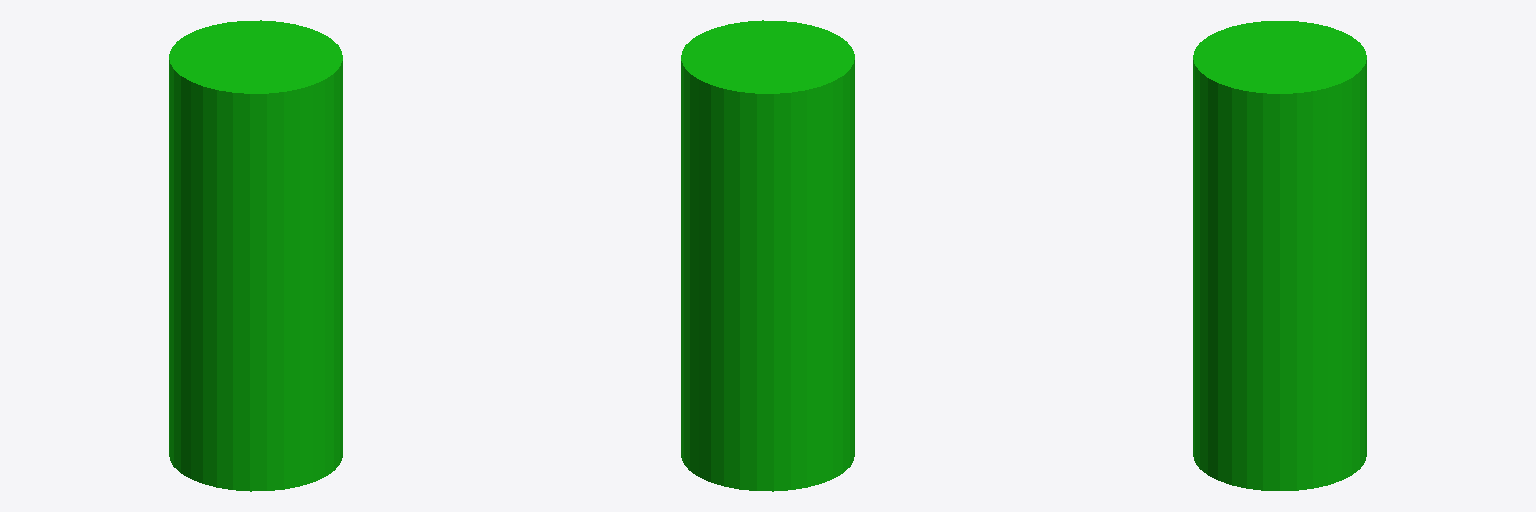
robot.urdf — tool_target:
<?xml version="1.0"?>
<robot name="tool_target">
  <link name="base_link">
    <visual>
      <origin xyz="0 0 0" rpy="0 0 0" />
      <geometry>
        <cylinder length="0.199" radius="0.0395"/>
      </geometry>
      <material name="green">
        <color rgba="0.1 0.8 0.1 1" />
      </material>
    </visual>
    <collision>
      <origin xyz="0 0 0" rpy="0 0 0" />
      <geometry>
        <mesh filename="file://[local-path]/ros_devel_ws/src/learn_affordance_tamp/tamp/examples/pybullet/utils/models/meiying_tool_target.obj" />
      </geometry>
    </collision>
  </link>
</robot>

--- Facts derived from the render (not from the file) ---
Views: 3 orthographic renders of the robot side by side, from view 1: azimuth 30°, elevation 25°; view 2: azimuth 150°, elevation 25°; view 3: azimuth 270°, elevation 25°.
Model tool_target with 1 links and 0 joints (none), rooted at base_link, posed every joint at zero.
Links seen in each view (by area): view 1: base_link; view 2: base_link; view 3: base_link.
Link boxes in pixels (x1,y1,x2,y2): base_link: (169,20,342,491); base_link: (681,20,854,491); base_link: (1193,21,1366,490).
Size in the robot's own frame: 0.079 by 0.079 by 0.199 metres.
Geometry: primitives only (box / cylinder / sphere), no mesh files.
